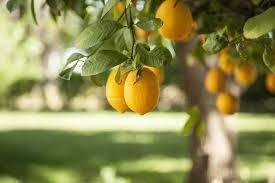lemon: (124, 67, 160, 115), (156, 0, 192, 40), (105, 67, 130, 113), (218, 46, 238, 75), (234, 62, 256, 88), (204, 66, 224, 94), (217, 91, 235, 114), (266, 72, 275, 92)
